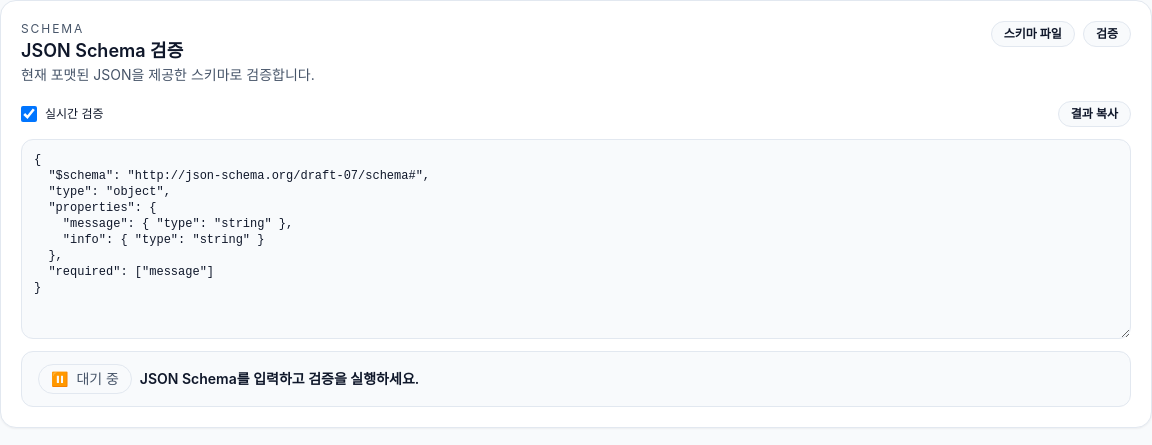
Scenario: JsonSchemaValidator › passes validation for matching schema
The image size is (1152, 445).
Click the button "검증".
click(1107, 34)  # box top-left (1083, 21), bottom-right (1131, 47)
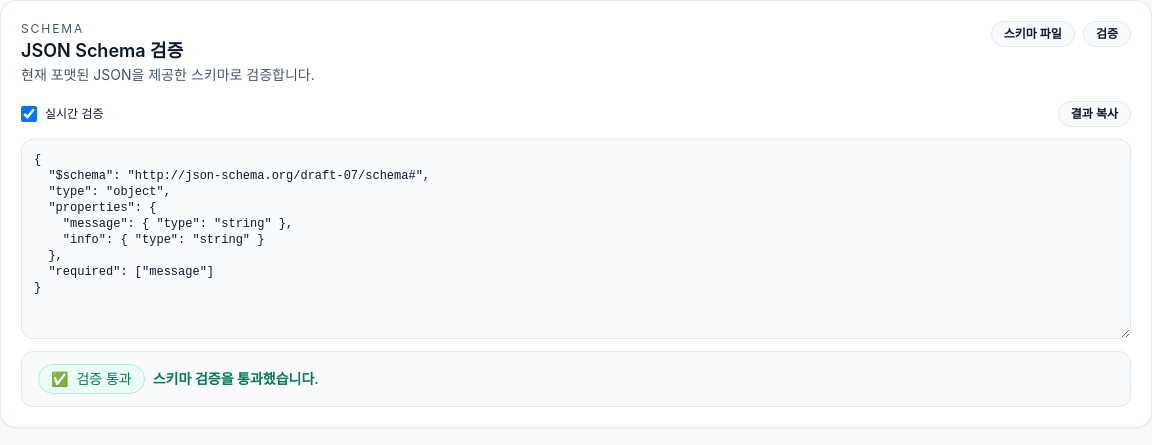
Now the text "통과했습니다" is shown, box top-left (153, 370), bottom-right (319, 387)
